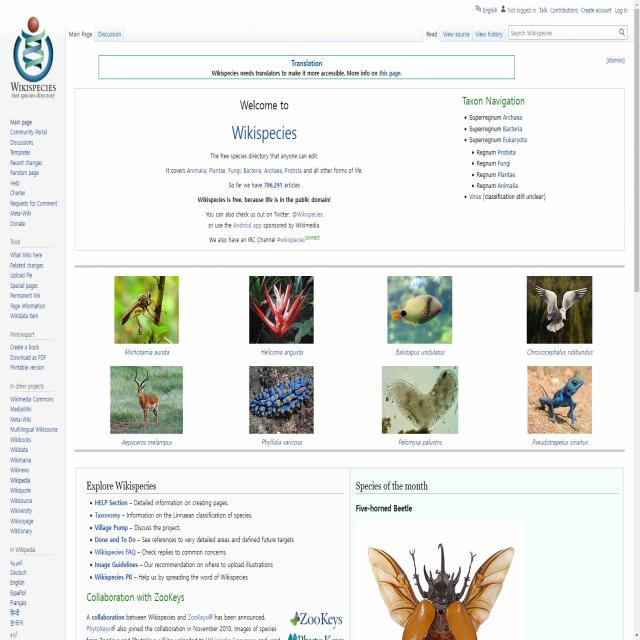menu-bar: (422, 23, 506, 42), (536, 2, 630, 17), (67, 23, 124, 43)
search: (507, 21, 629, 41)
